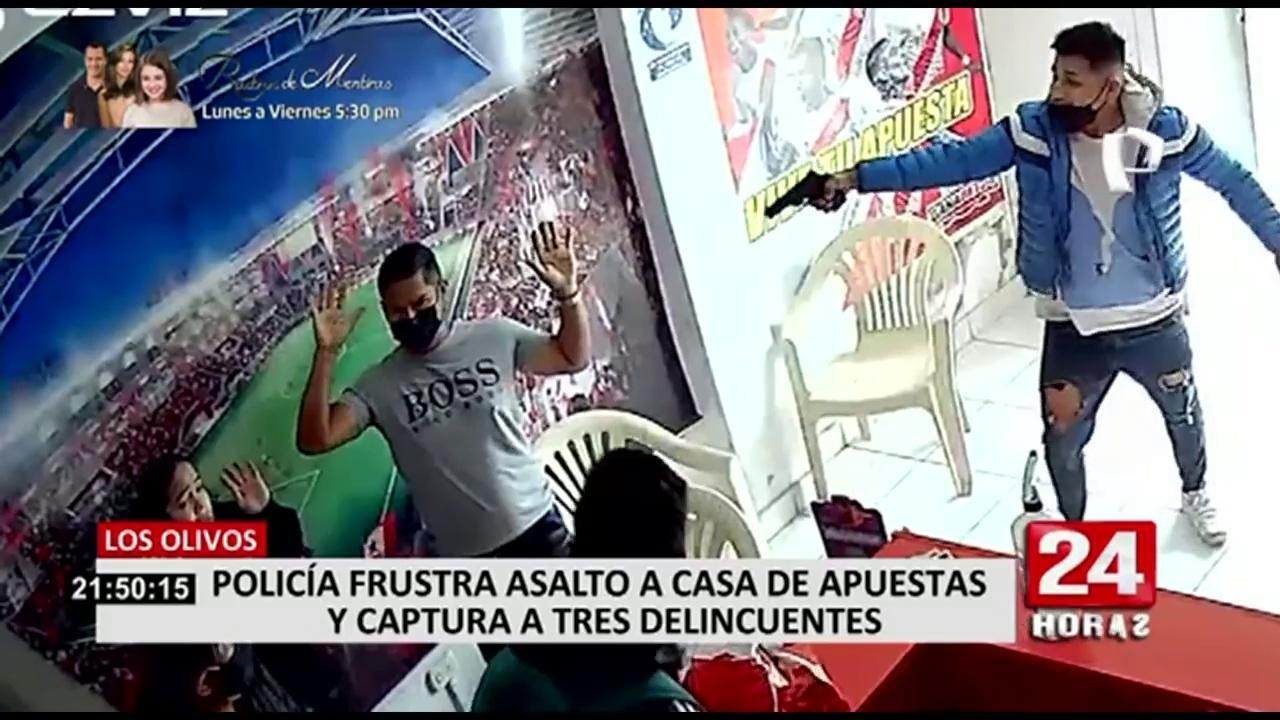Guns: (732, 142, 852, 247)
